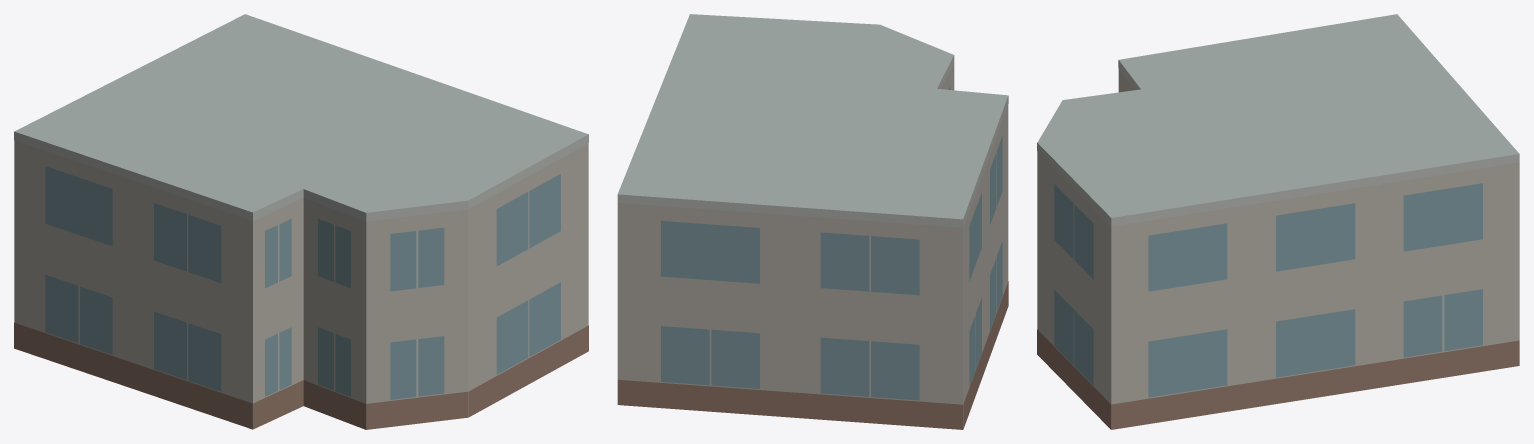
The model's file is survey-upis-32788722.glb.
3 renders of one model, left to right at view 1: azimuth 30°, elevation 25°; view 2: azimuth 150°, elevation 25°; view 3: azimuth 270°, elevation 25°, orthographic. The views are drawn at different scales.
Parts seen in each view (by area): view 1: survey-upis-32788722.tmp; view 2: survey-upis-32788722.tmp; view 3: survey-upis-32788722.tmp.
Boxes of the visible parts, box(x1,y1,x2,y2) form: survey-upis-32788722.tmp: box(14, 14, 588, 429); survey-upis-32788722.tmp: box(617, 14, 1008, 429); survey-upis-32788722.tmp: box(1037, 14, 1519, 429).
Bounding box in the file's own units: 12.6 × 6.1 × 12.6.
